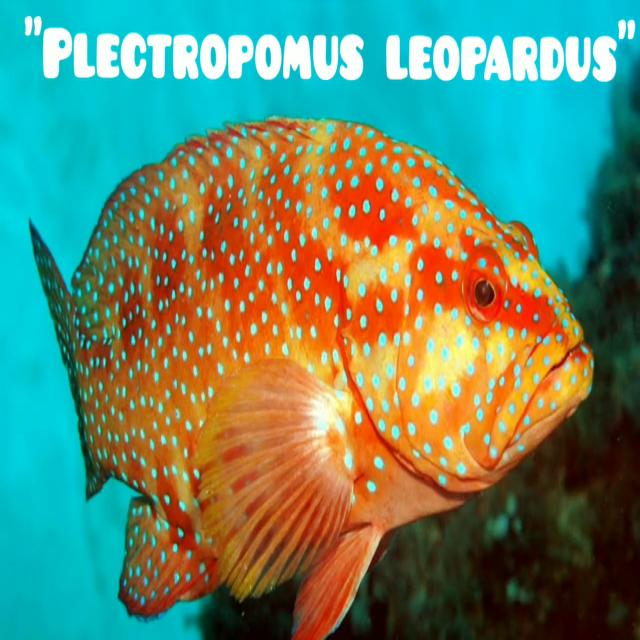Plectropomus-leopardus: (32, 126, 619, 636)
